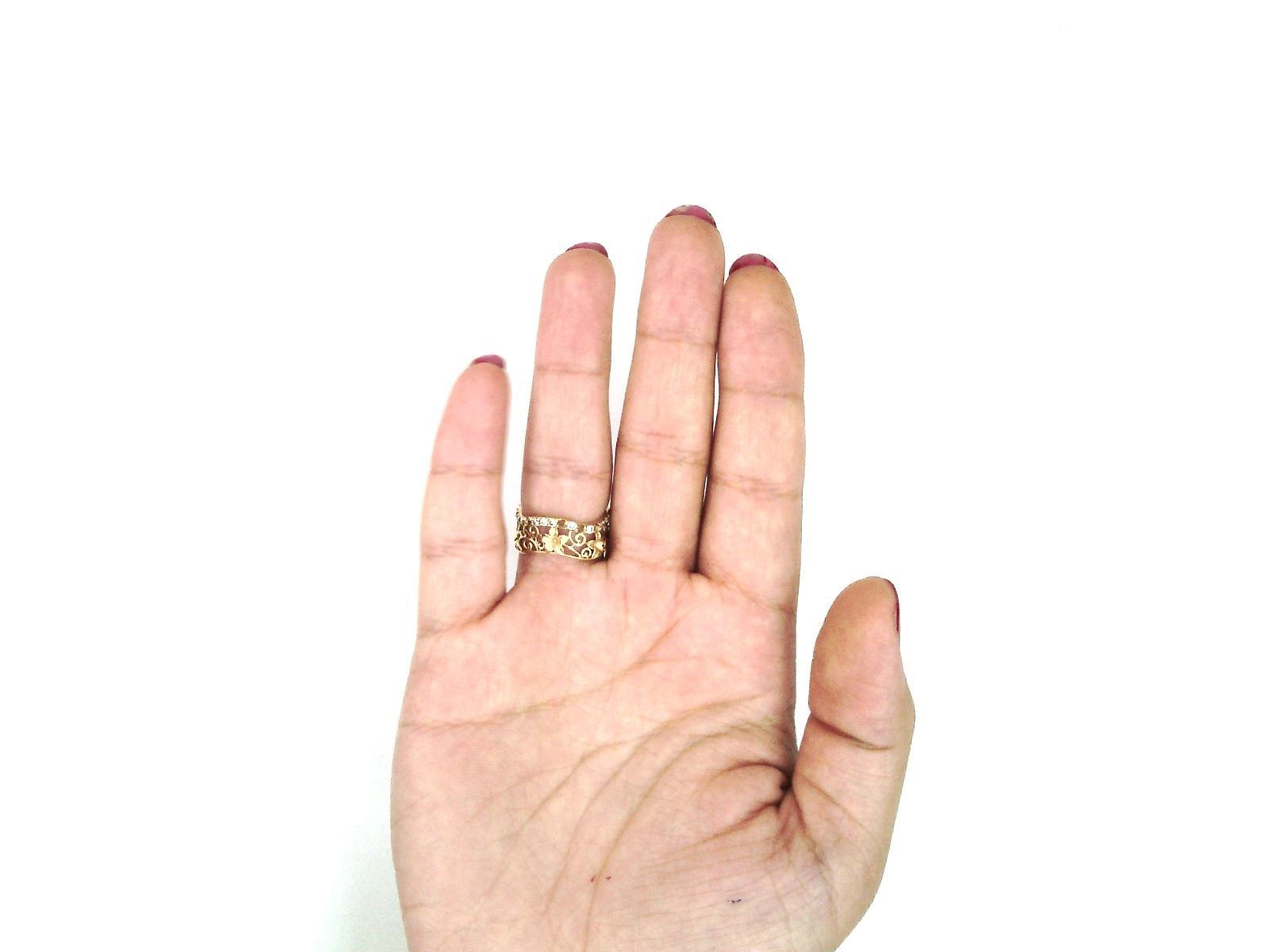open_palm: (386, 204, 918, 951)
